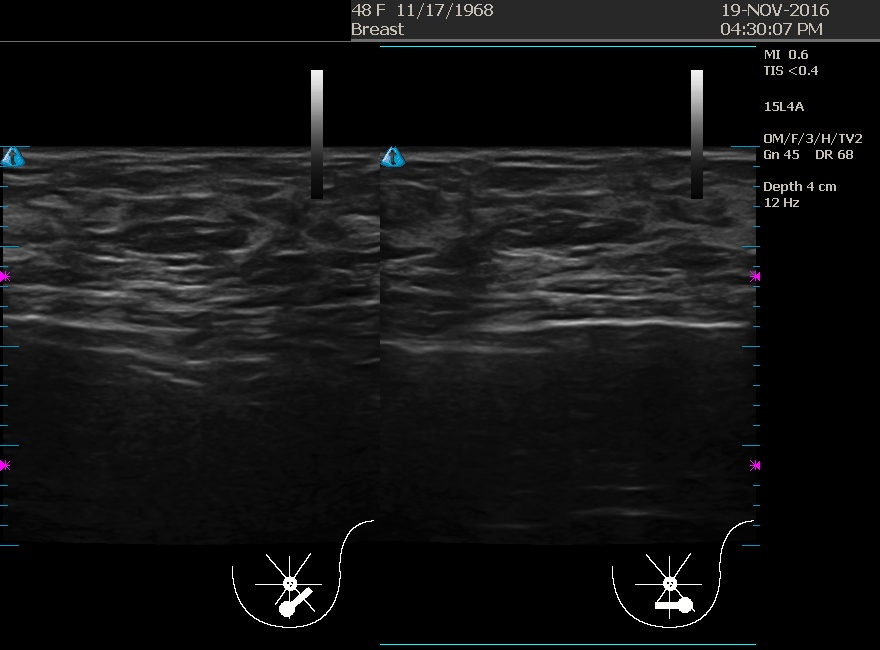BIRADS_3: (61, 156, 261, 356), (450, 157, 650, 357)
